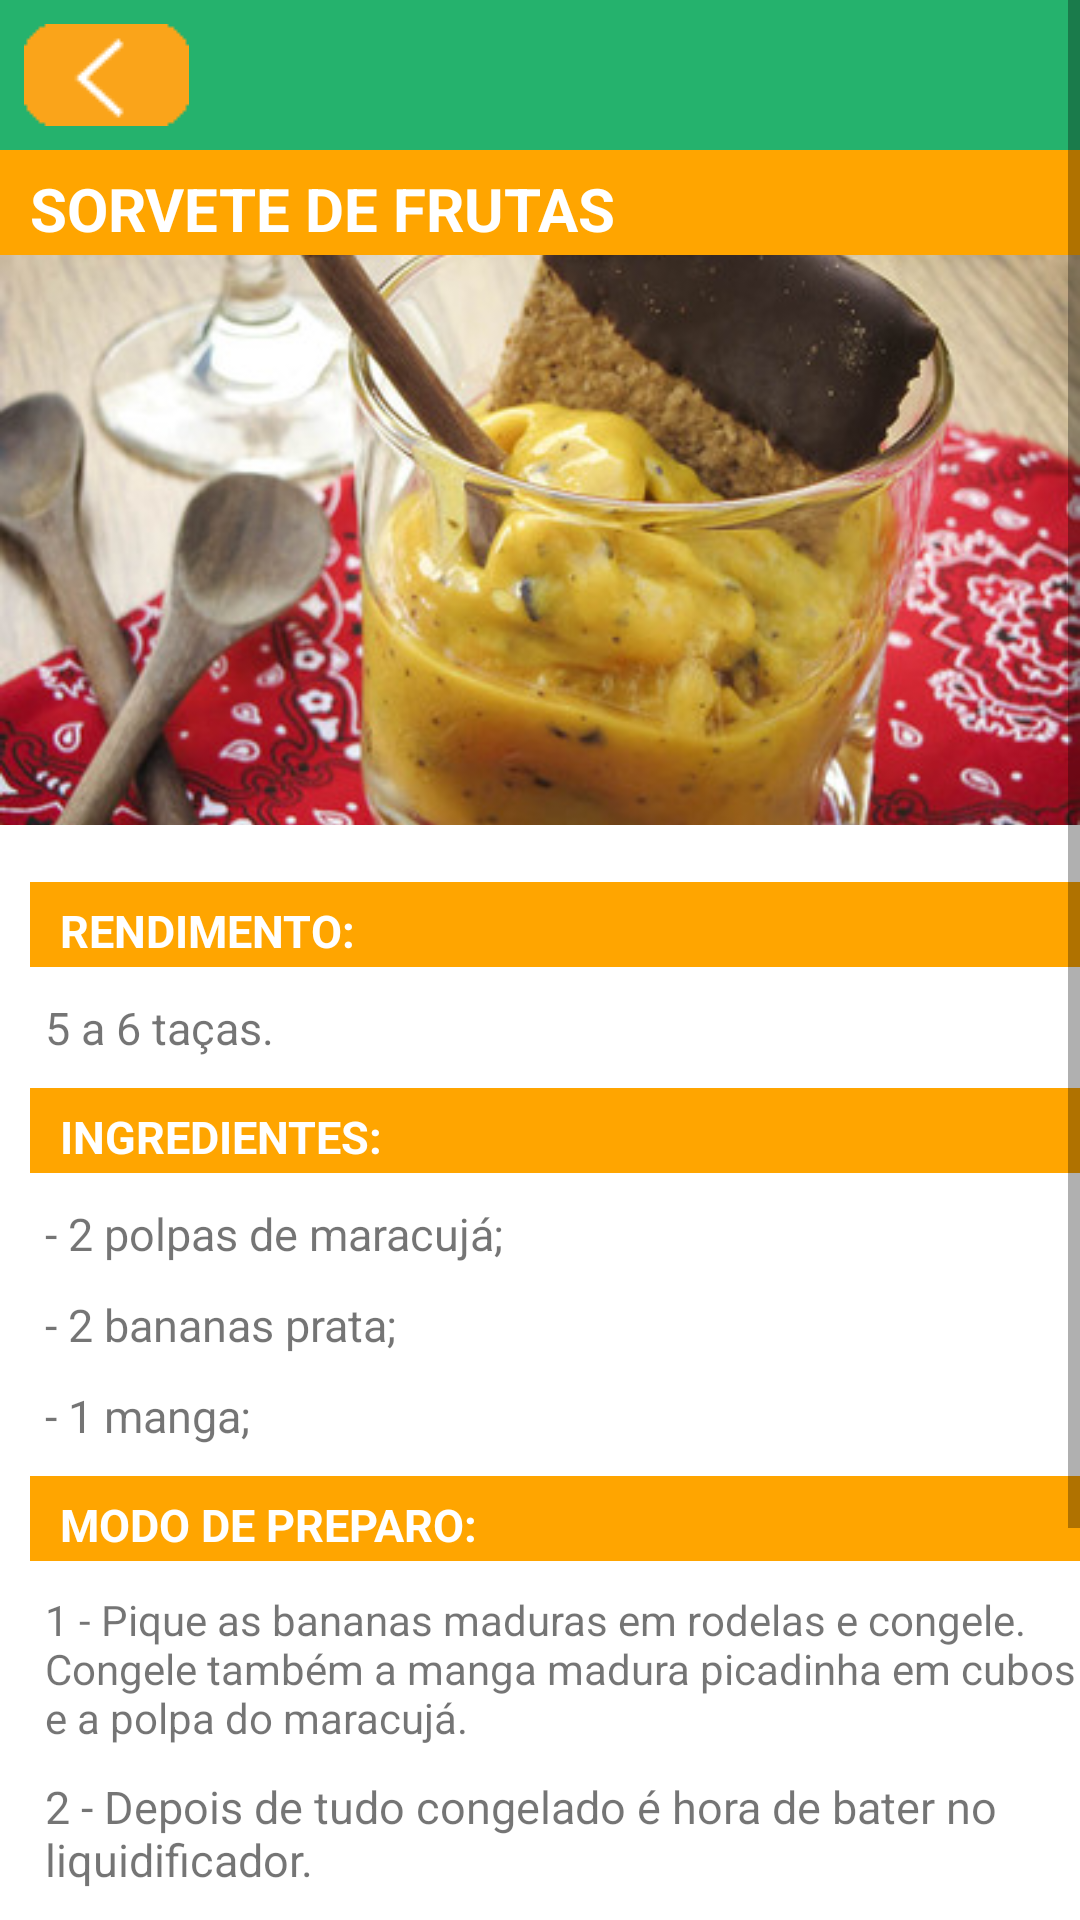

Where icons sit on this 1080x1920 app screen, as region(x1, y1, x2, y2):
return: region(24, 24, 189, 126)
